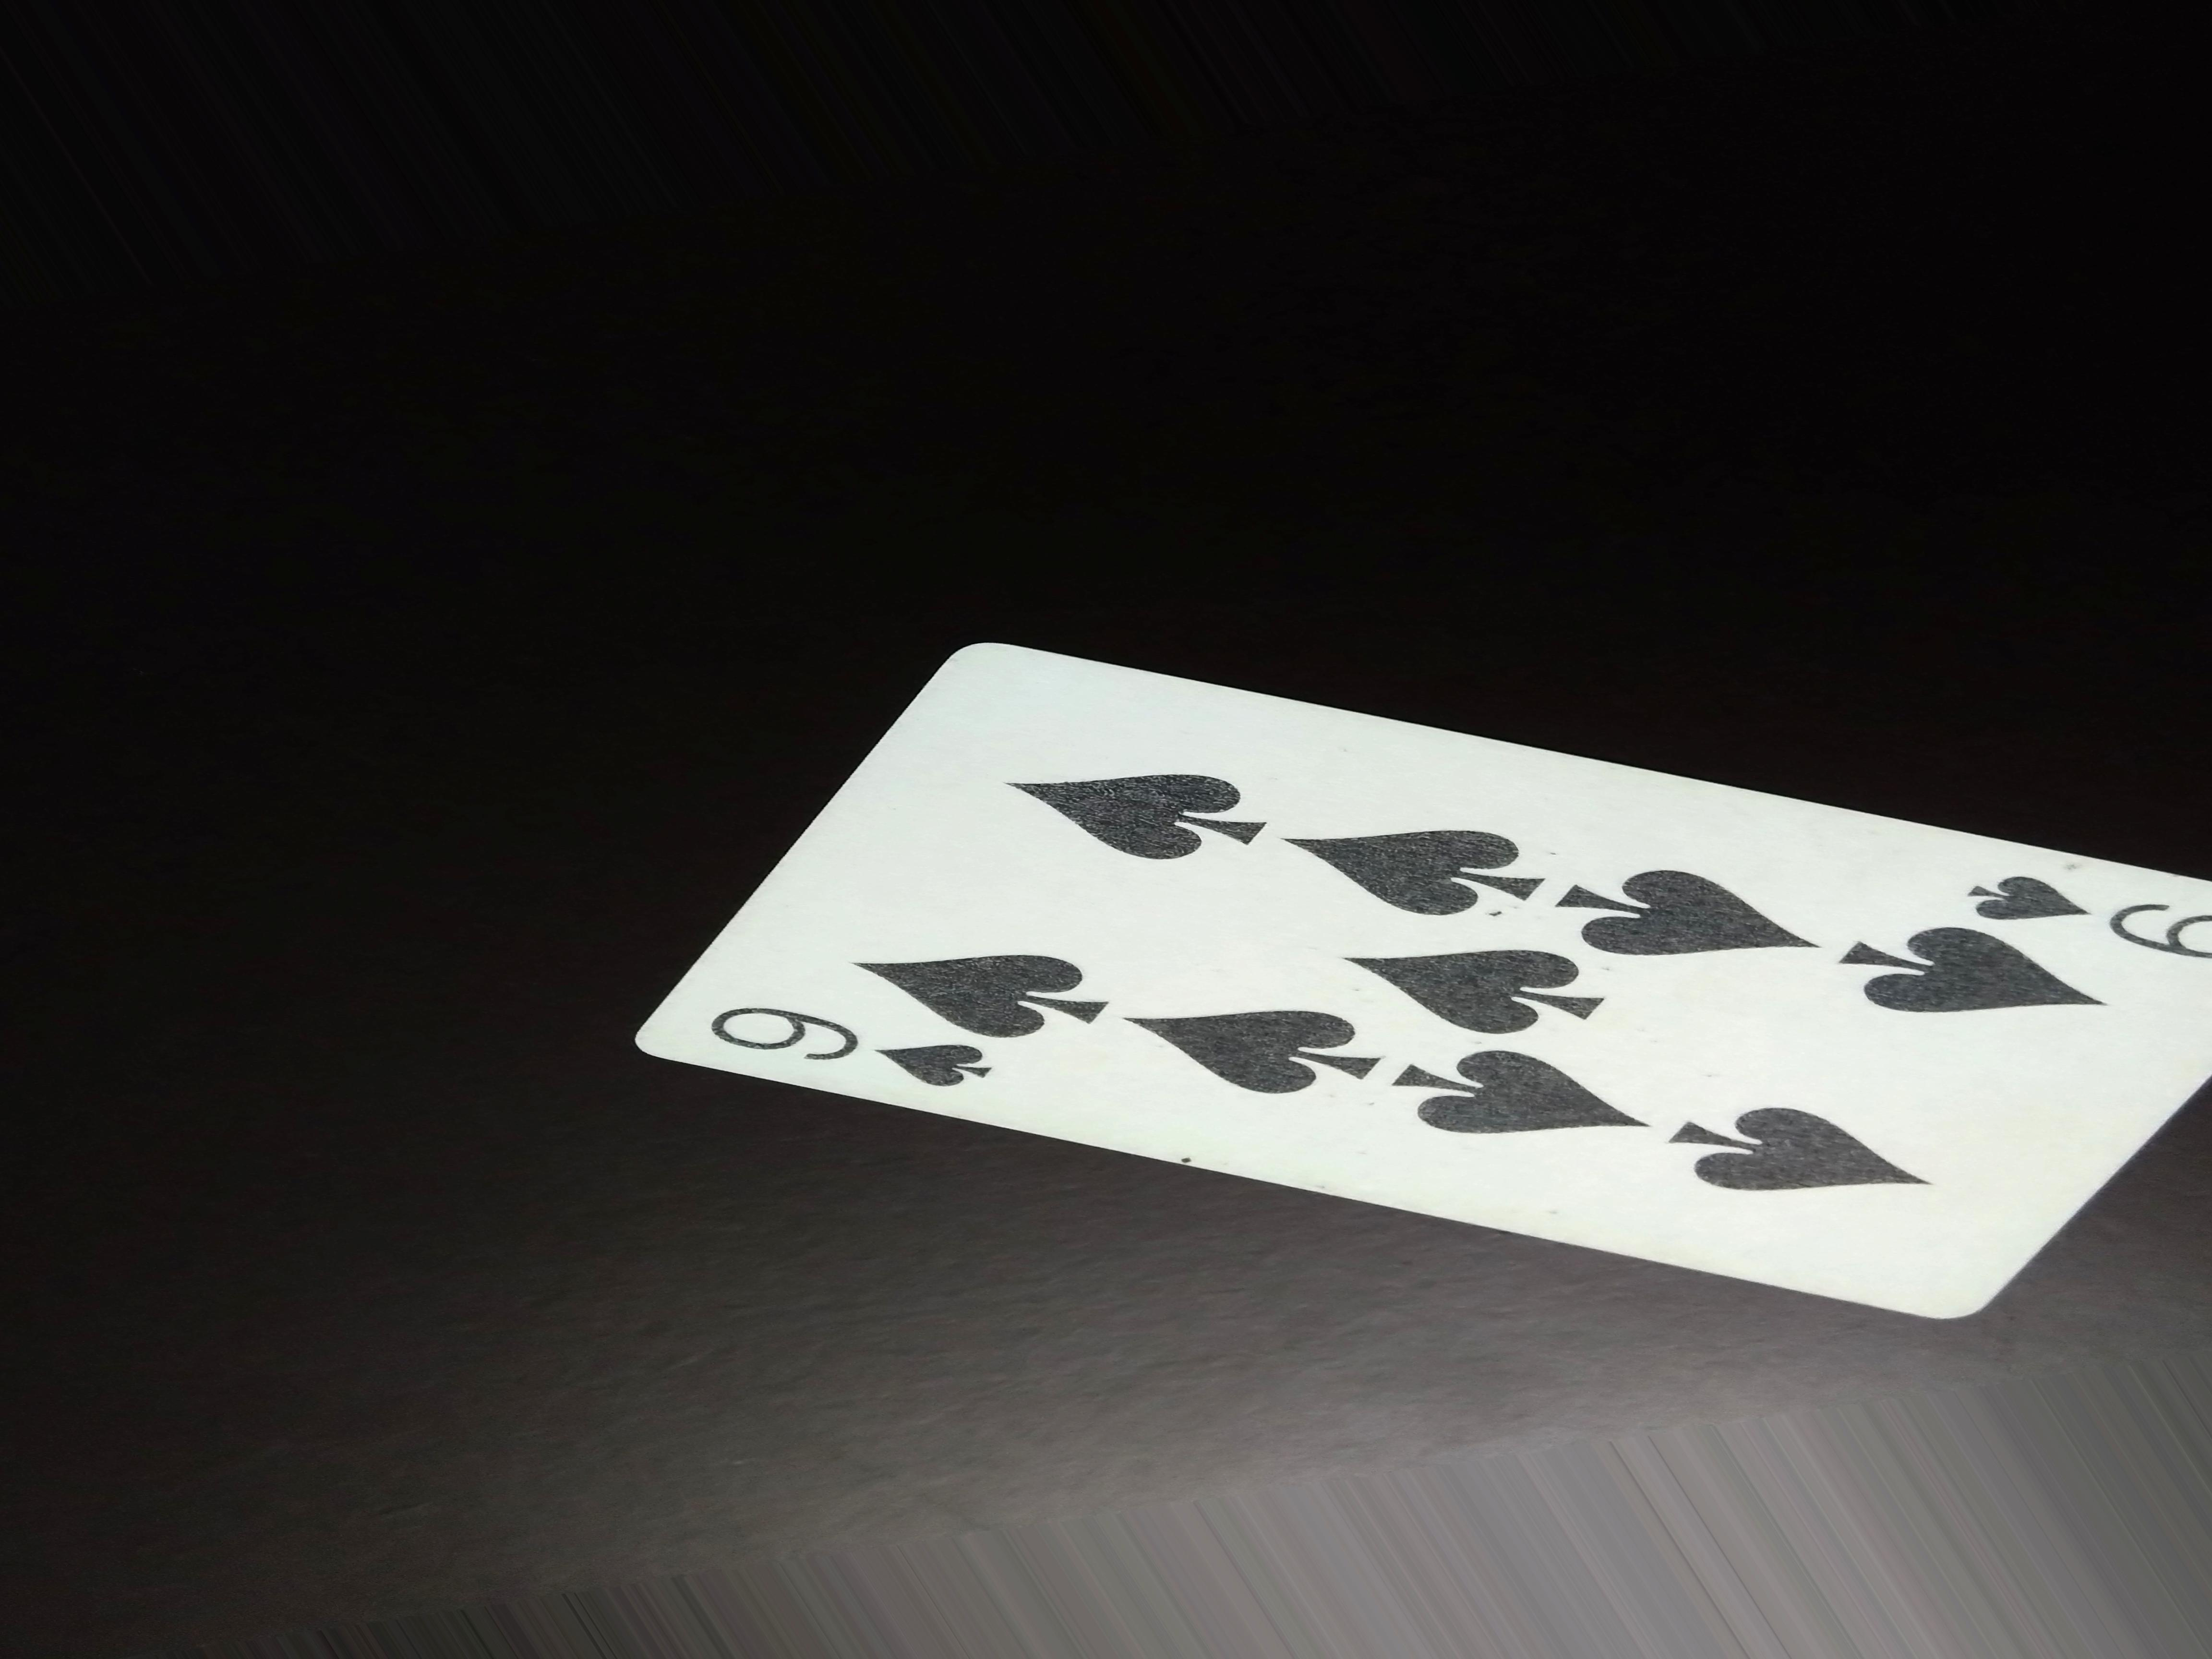9S: (697, 993, 993, 1084)
